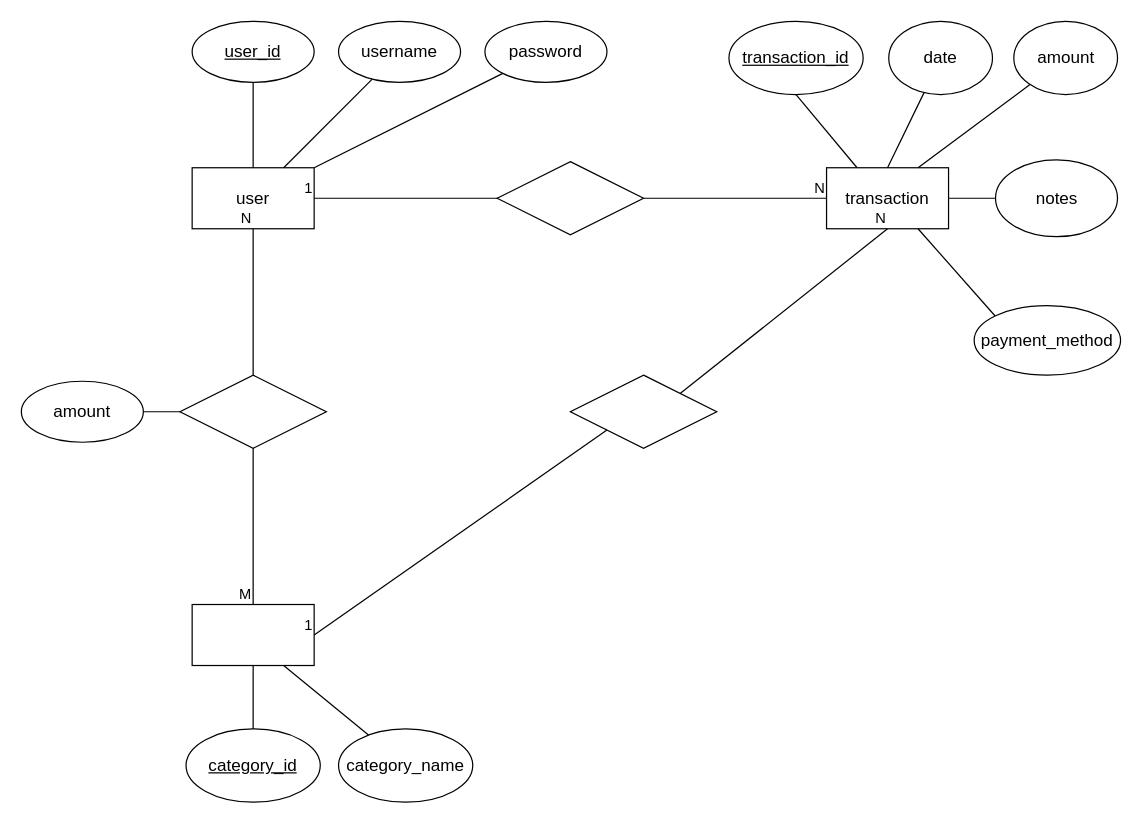
Image size: 1142x824. Some labels were removed from this diagram. The shapes that lost their labels are listed below. From the top down, each one's box as (x1, y1, x2, y2) in pixels, then its label:
(496, 160, 644, 235): records
(179, 374, 326, 448): sets
(569, 374, 717, 448): containts
(191, 603, 314, 666): category
